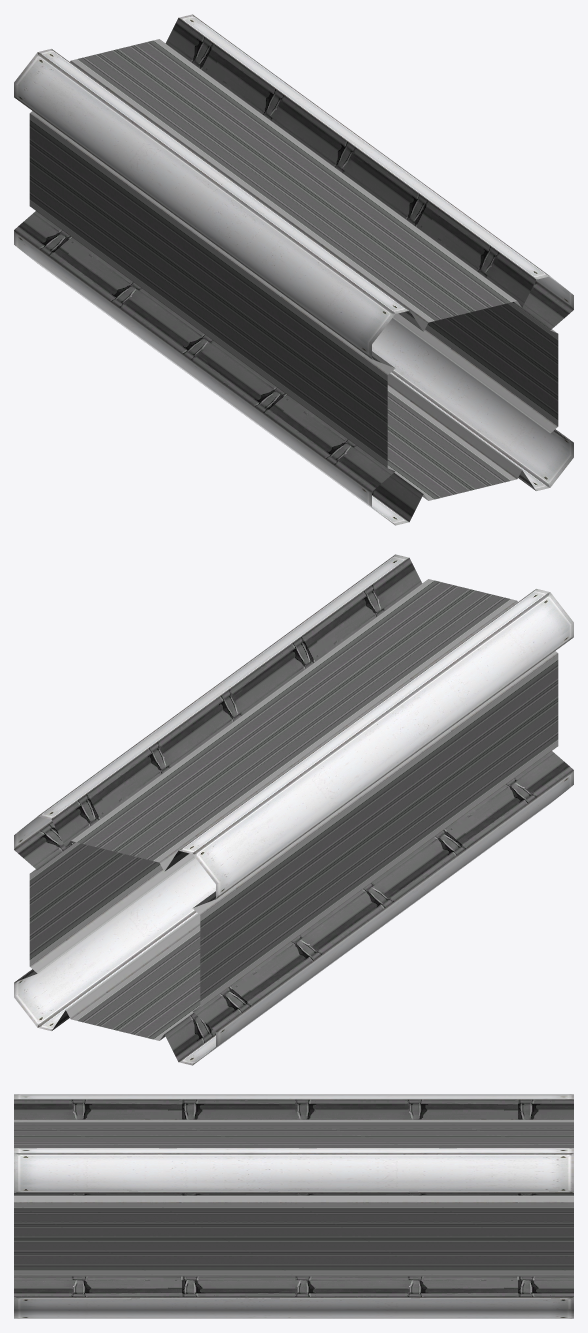
The model's file is CeilingBrace_1x4.FBX.
The picture shows the model from 3 angles, top to bottom: view 1: azimuth 30°, elevation 25°; view 2: azimuth 150°, elevation 25°; view 3: azimuth 270°, elevation 25°; orthographic projection. The views are drawn at different scales.
Parts seen in each view (by area): view 1: CeilingBrace_1x4; view 2: CeilingBrace_1x4; view 3: CeilingBrace_1x4.
Boxes of the visible parts, bbox=[...] form: CeilingBrace_1x4: bbox=[14, 14, 573, 525]; CeilingBrace_1x4: bbox=[14, 554, 573, 1065]; CeilingBrace_1x4: bbox=[14, 1094, 573, 1318].
Size of the model in its own units: 1.3 by 1.3 by 4.
